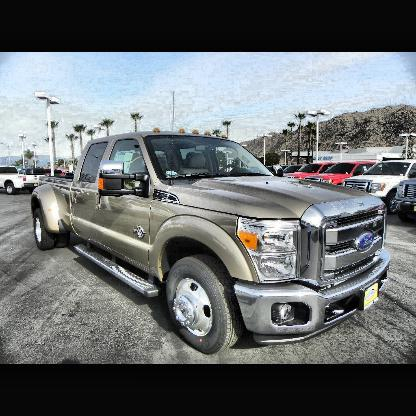Ford F-450 Super Duty Crew Cab 2012: (30, 134, 391, 355)
